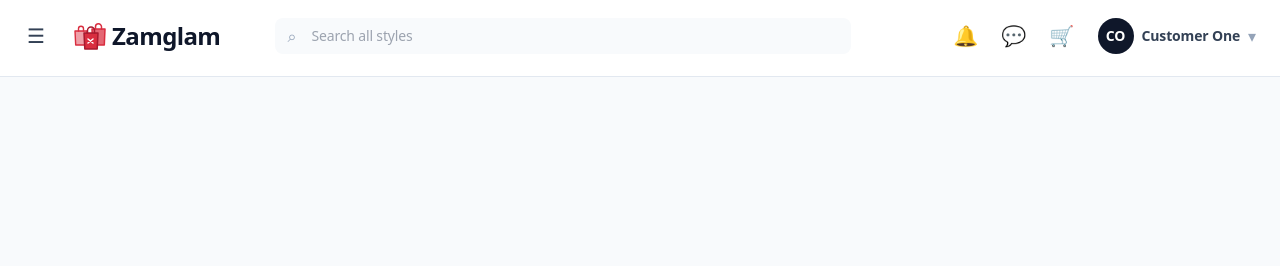
Test: customer header navigation › shows a white header and puts dashboard and collections in the menu
The image size is (1280, 266).
Click the button named "Open navigation menu".
click(36, 36)  # box [16, 16, 56, 56]
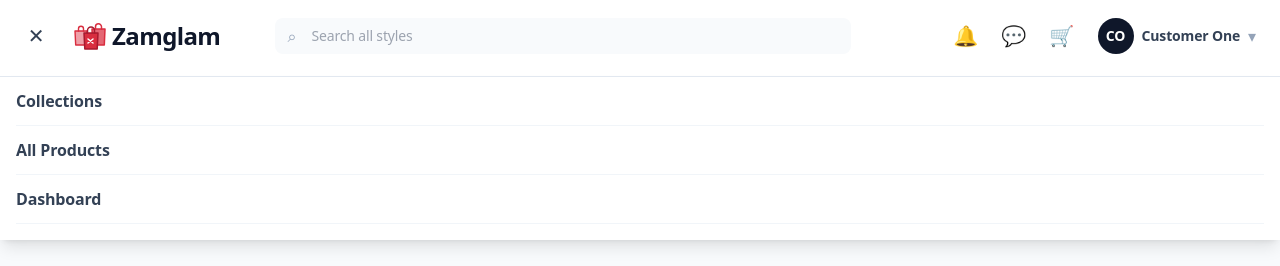
Expected: the navigation bar named "Customer and shopping navigation" shows "Dashboard", [16, 175, 1264, 224]
Expected: the navigation bar named "Customer and shopping navigation" shows "Collections", [16, 77, 1264, 126]
